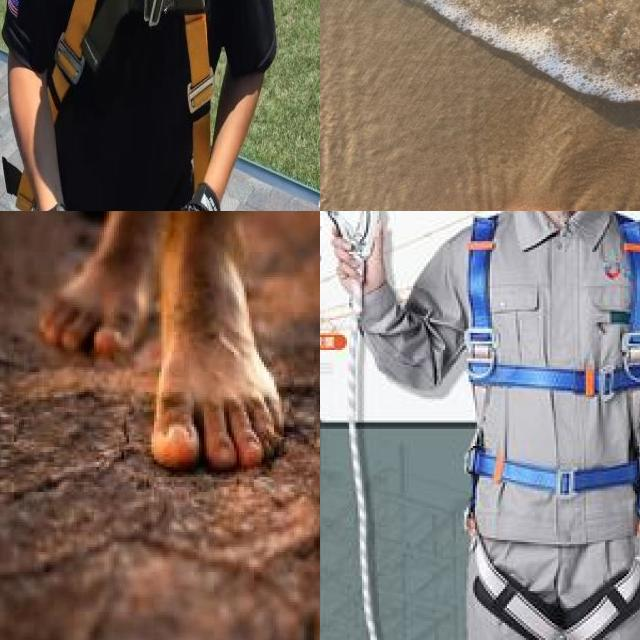Barefoots: (143, 211, 320, 497), (26, 211, 162, 370)
Harness: (456, 211, 640, 640), (51, 0, 214, 186)
